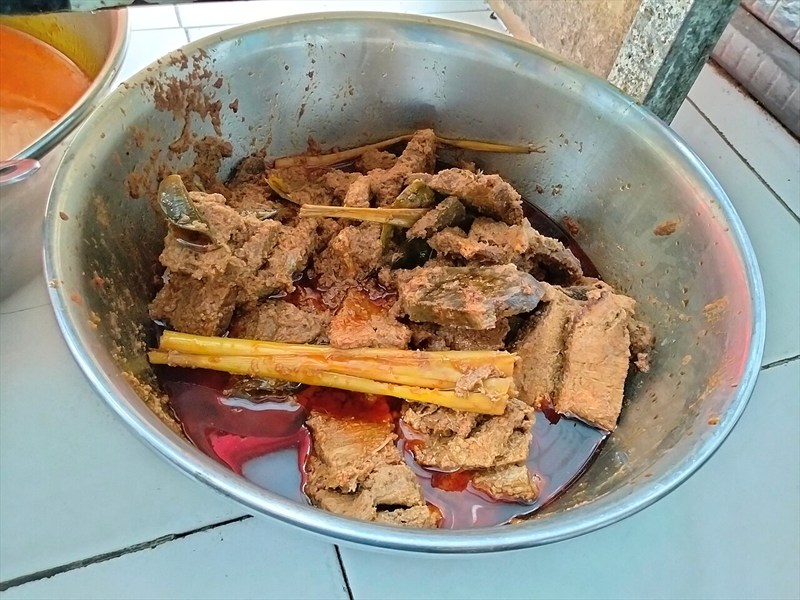Rendang: (122, 129, 613, 496)
